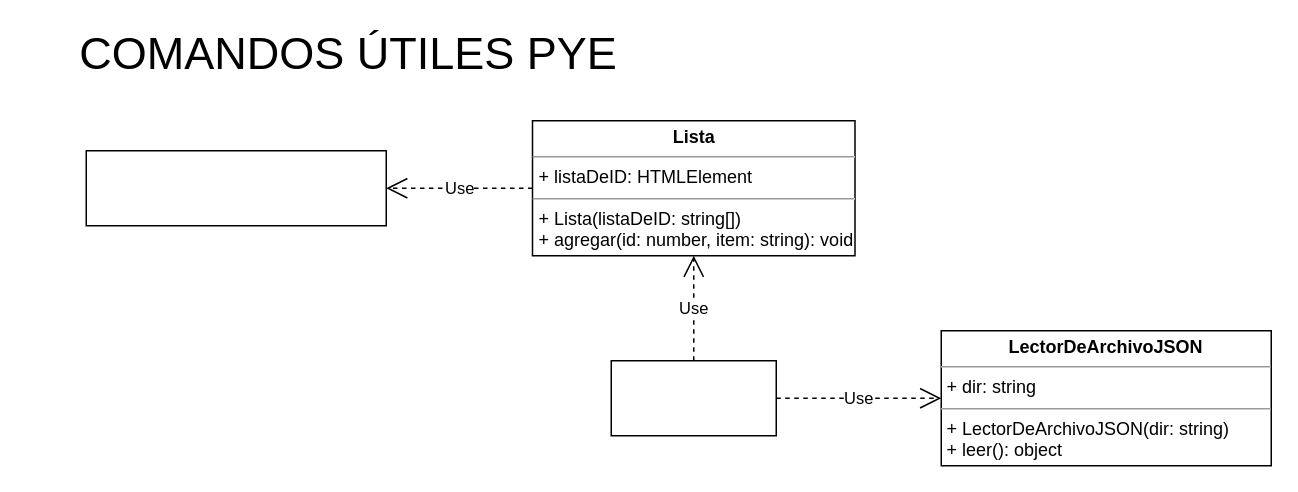
Some shapes in this 1298 by 492 pixel diagram are drawn without their labels. Here are the shapes that lost their labels. From the top down, the centre of each, then its label:
At (235,187): "Item +Item(texto: string): HTMLLIElement".
At (693,397): "MainApplication + main(): void".
